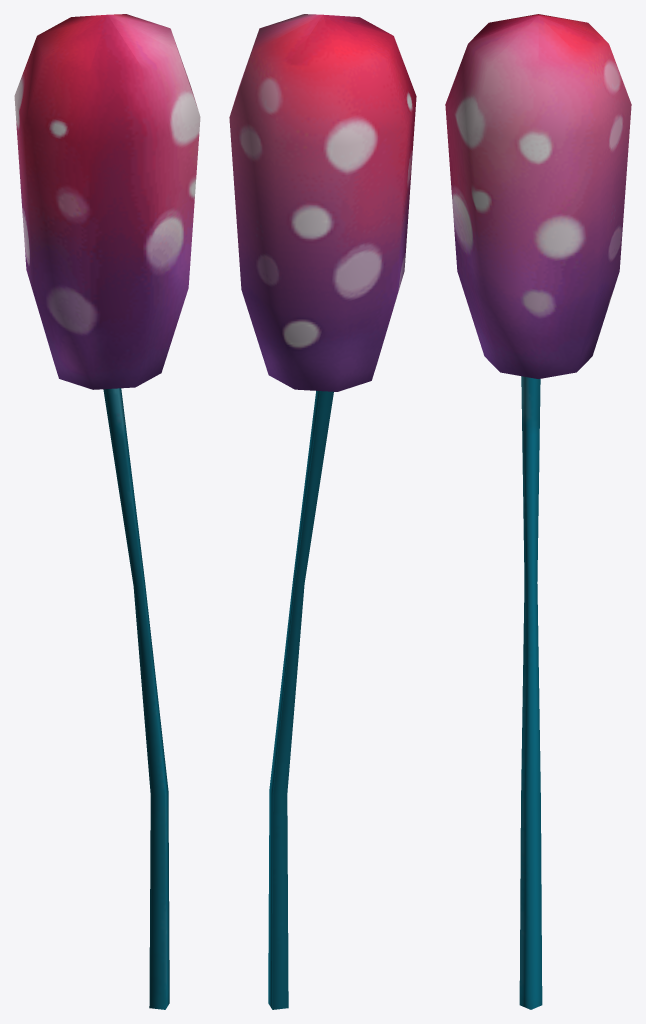
Rendered from cj_hua1.fbx.
3 renders of one model, left to right at view 1: azimuth 30°, elevation 25°; view 2: azimuth 150°, elevation 25°; view 3: azimuth 270°, elevation 25°, orthographic. The views are drawn at different scales.
Parts seen in each view (by area): view 1: cj_hua1; view 2: cj_hua1; view 3: cj_hua1.
Boxes of the visible parts, <box> form: cj_hua1: <box>14,14,200,1009</box>; cj_hua1: <box>229,14,416,1009</box>; cj_hua1: <box>445,14,631,1009</box>.
Size of the model in its own units: 271 by 1553 by 271.
